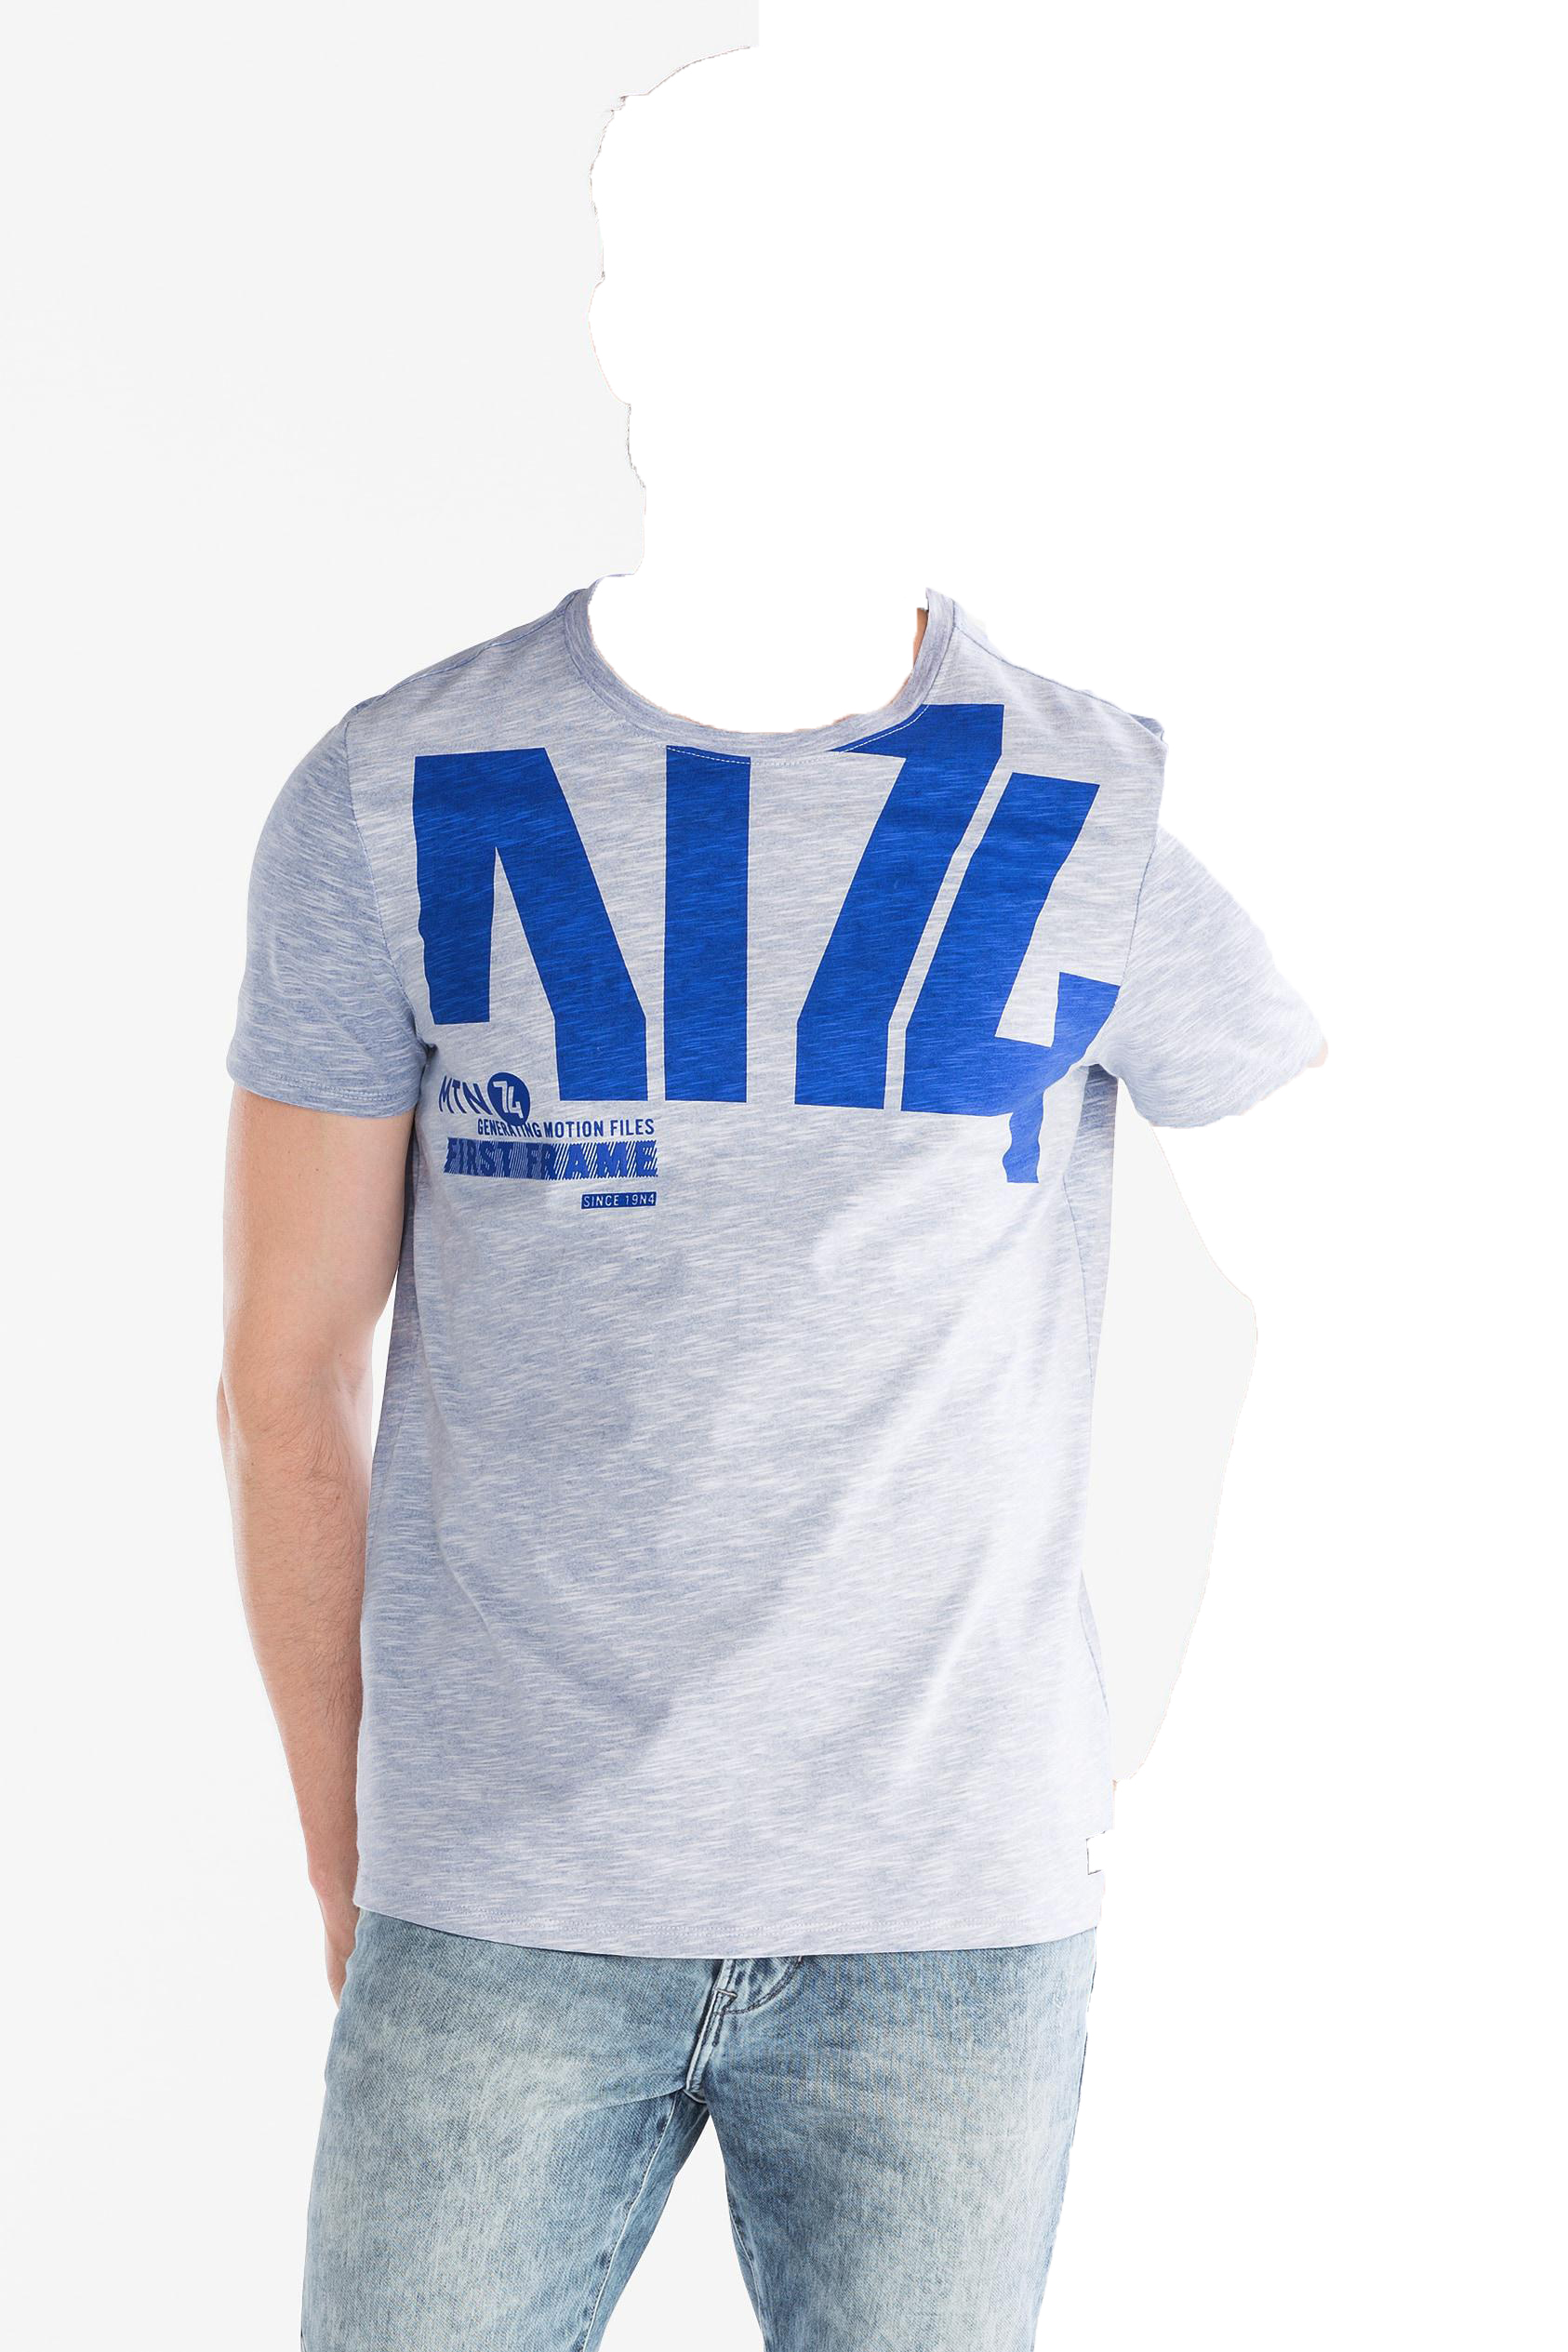teeshirt: (203, 571, 1325, 1974)
